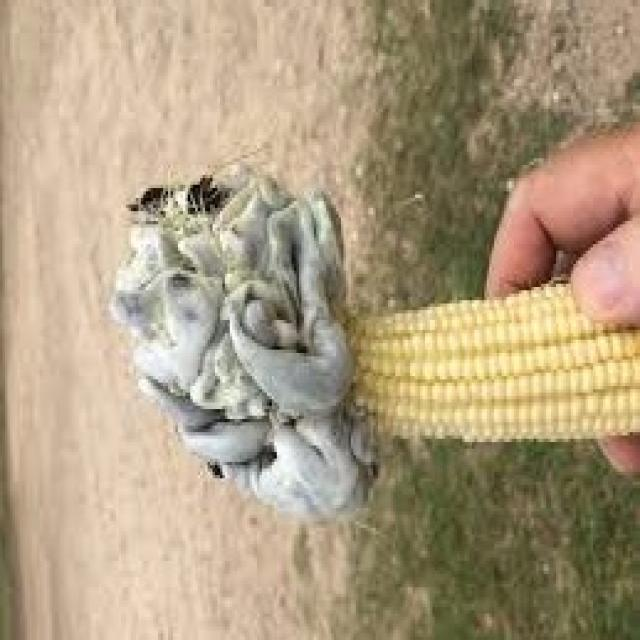Leaf_Scald: (65, 113, 504, 570)
